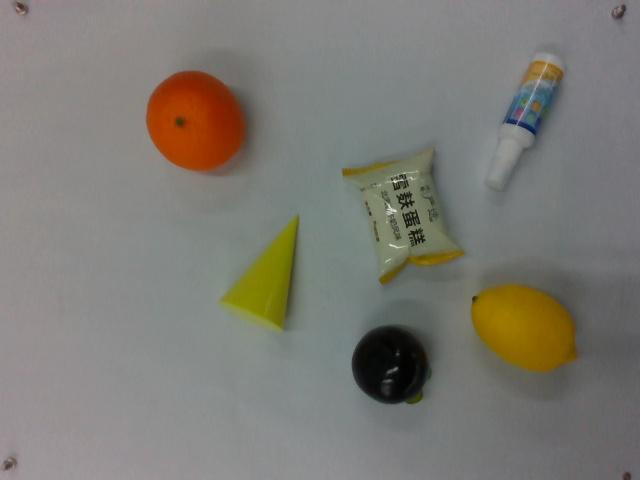cone: (220, 214, 301, 338)
dessert: (346, 143, 462, 287)
detergent: (483, 50, 565, 188)
lemon: (470, 281, 589, 375)
mangosteen: (347, 323, 433, 409)
orange: (142, 67, 249, 174)
